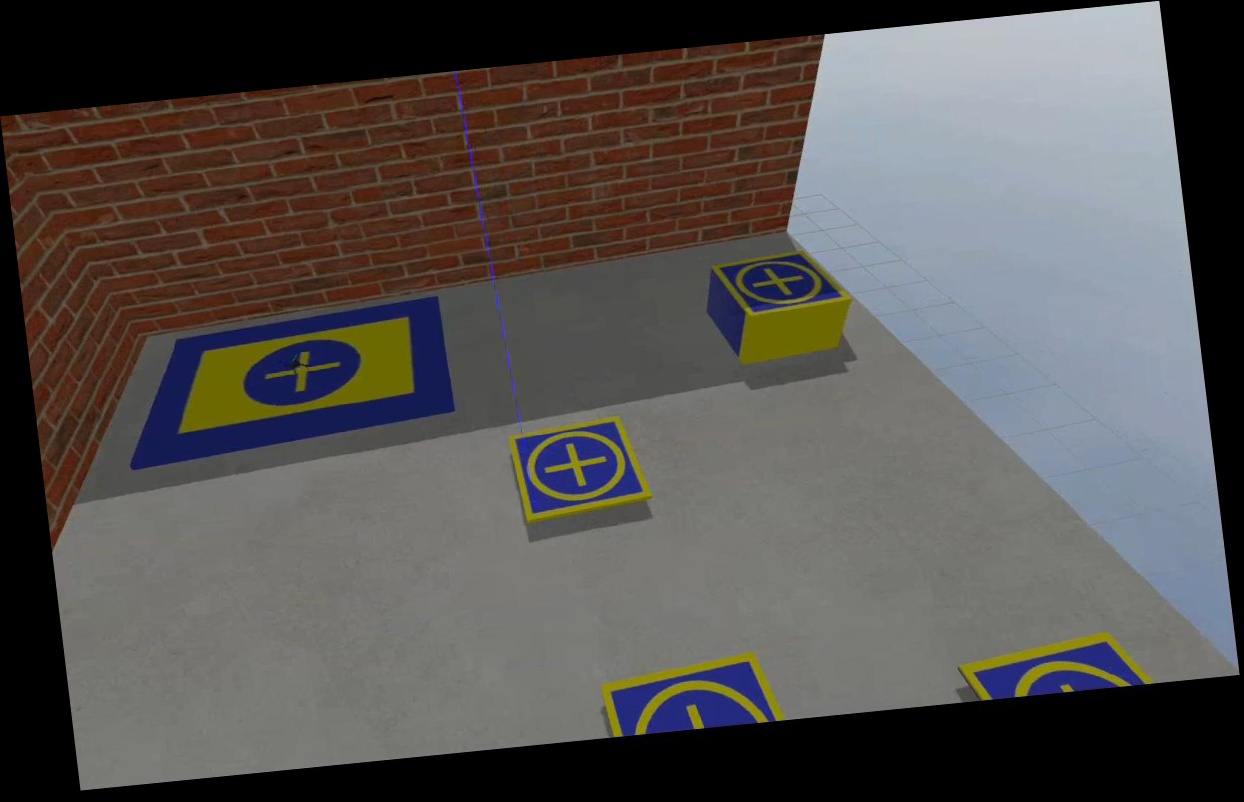large_base: (117, 296, 462, 471)
small_base: (600, 646, 787, 739), (506, 414, 655, 527), (957, 629, 1150, 702), (709, 244, 855, 324)
